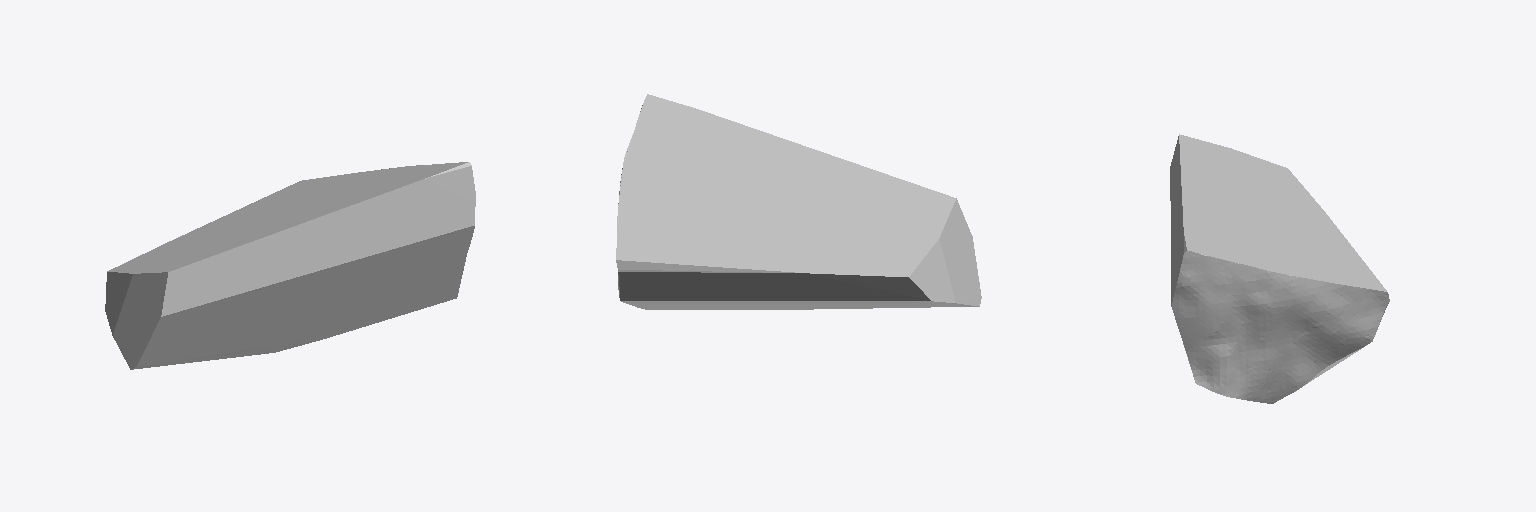
The model's file is low_cell_007.obj.
3 views of the same model, side by side, from view 1: azimuth 30°, elevation 25°; view 2: azimuth 150°, elevation 25°; view 3: azimuth 270°, elevation 25° (orthographic).
Visible parts, largest first — view 1: low_cell.007_low_cell.006; view 2: low_cell.007_low_cell.006; view 3: low_cell.007_low_cell.006.
Boxes of the visible parts, <box> form: low_cell.007_low_cell.006: <box>105,162,475,369</box>; low_cell.007_low_cell.006: <box>616,94,981,309</box>; low_cell.007_low_cell.006: <box>1170,134,1389,403</box>.
Bounding box in the file's own units: 1.15 × 0.5672 × 0.6462.